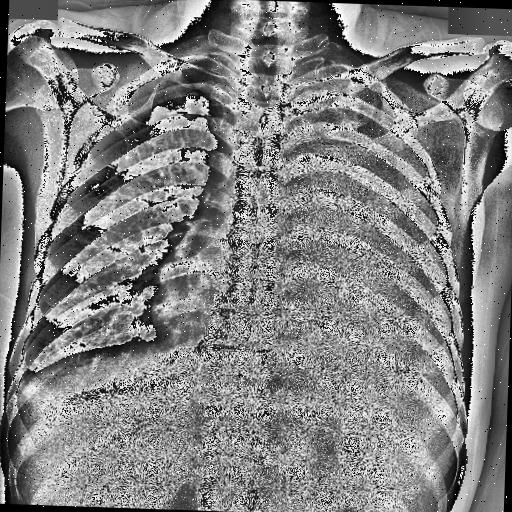10- Pleural effusion: (267, 52, 472, 394), (269, 71, 452, 411), (275, 72, 453, 366), (11, 364, 35, 406), (17, 350, 30, 392)
11- Pleural thickening: (11, 364, 35, 406), (17, 350, 30, 392)
9- Other lesion: (269, 71, 452, 411)
